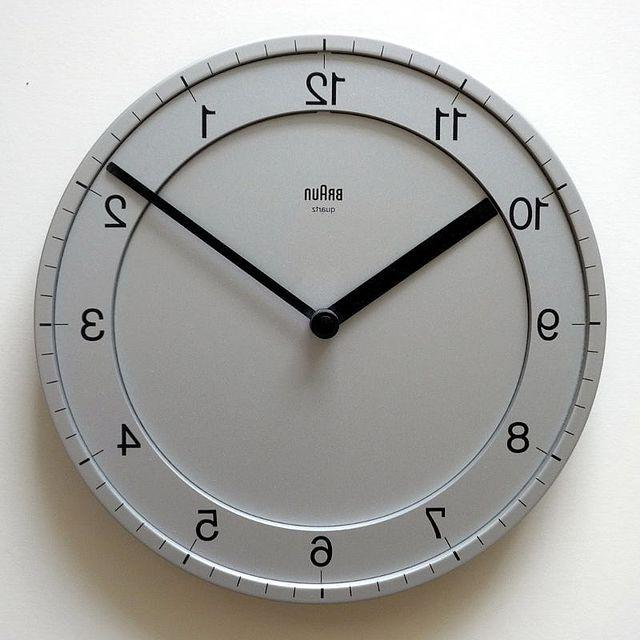clock: (8, 0, 640, 640)
